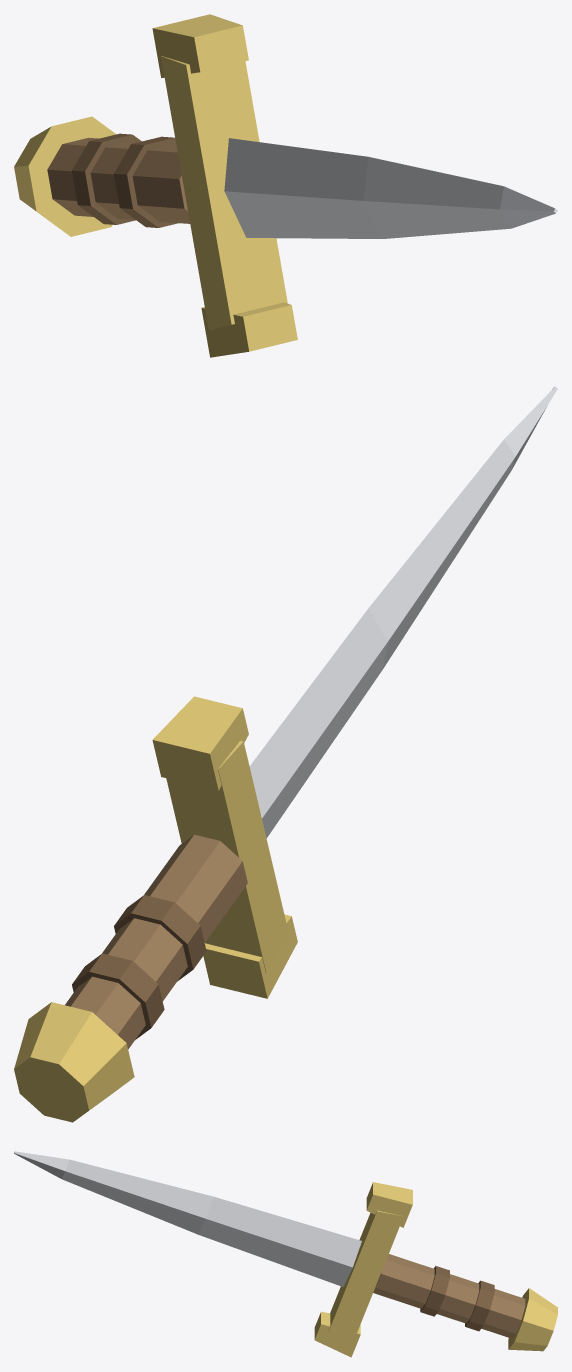
The model's file is dagger.glb.
3 renders of one model, top to bottom at view 1: azimuth 30°, elevation 25°; view 2: azimuth 150°, elevation 25°; view 3: azimuth 270°, elevation 25°, orthographic. The views are drawn at different scales.
Parts seen in each view (by area): view 1: Dagger; view 2: Dagger; view 3: Dagger.
Boxes of the visible parts, x1,y1,x2,y2 form: Dagger: [14, 14, 557, 357]; Dagger: [14, 386, 557, 1122]; Dagger: [14, 1151, 557, 1357].
Bounding box in the file's own units: 0.0443 × 0.1615 × 0.4004.
